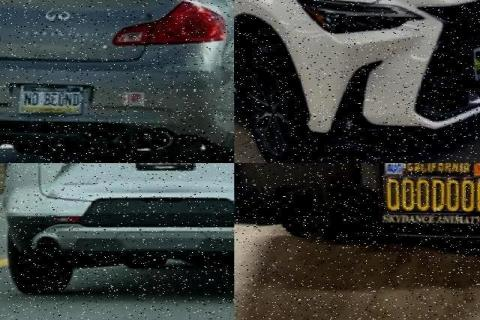LicensePlate: (375, 162, 478, 223), (20, 81, 84, 114), (136, 162, 195, 168)
